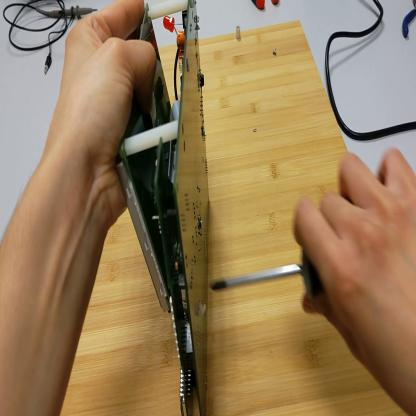hand: (296, 150, 416, 392), (50, 3, 157, 227)
low voltage board: (115, 1, 210, 416)
oscilloscope probe tip: (42, 4, 96, 20)
pliers: (402, 3, 416, 39), (253, 1, 281, 12)
screwdriver-: (206, 250, 324, 297)
working area: (60, 21, 412, 415)
